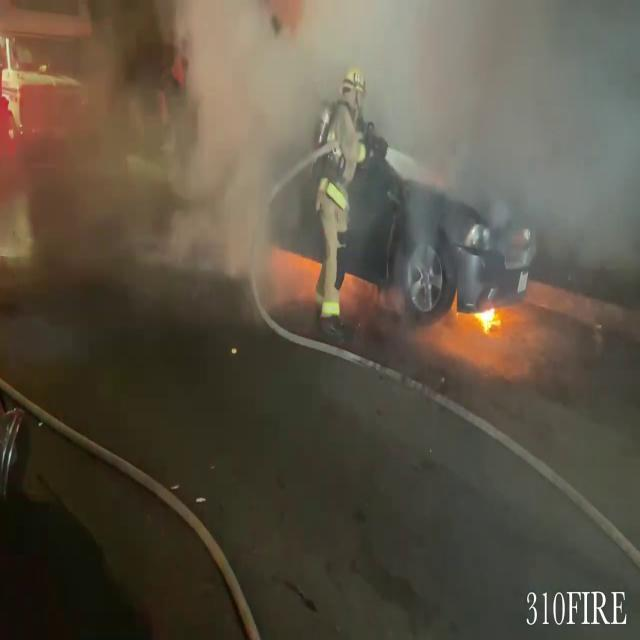Fire: (468, 296, 506, 334)
Smoke: (1, 0, 330, 318), (381, 0, 640, 257)
